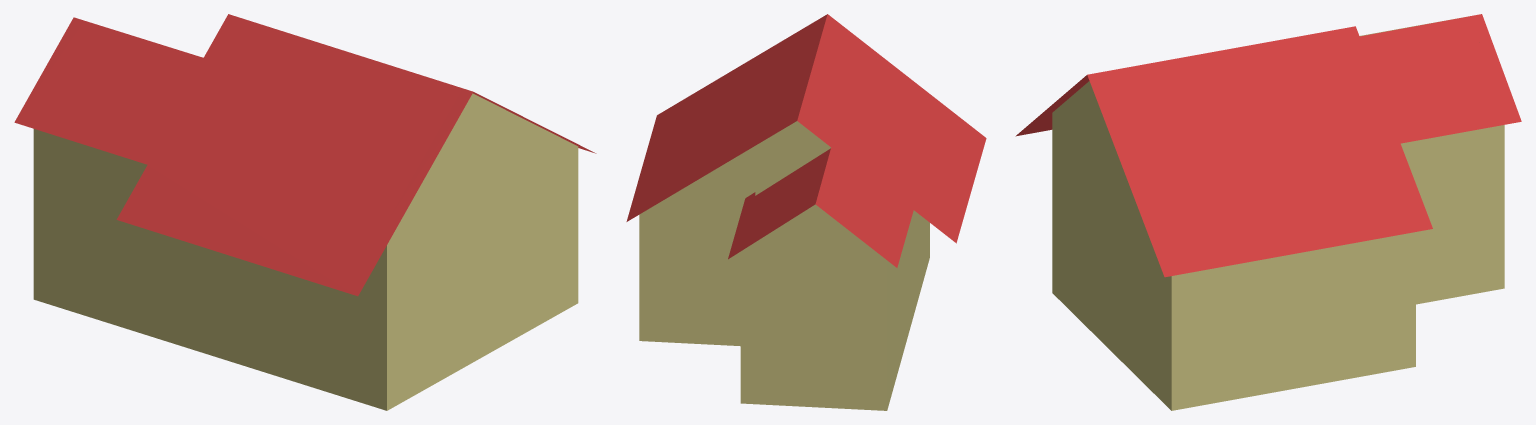
3 views of the same model, side by side, from view 1: azimuth 30°, elevation 25°; view 2: azimuth 150°, elevation 25°; view 3: azimuth 270°, elevation 25° (orthographic). The views are drawn at different scales.
Bounding box in the file's own units: 27.36 × 28.89 × 16.8.
